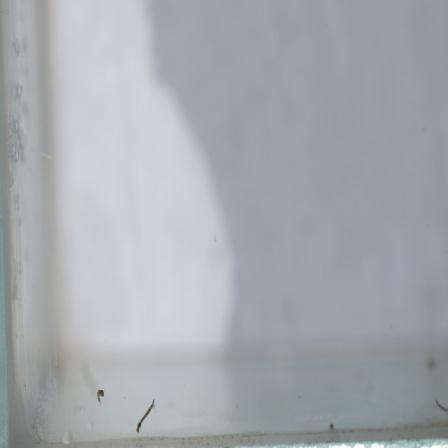Jentik-Nyamuk: (133, 397, 159, 437), (94, 387, 107, 406)
